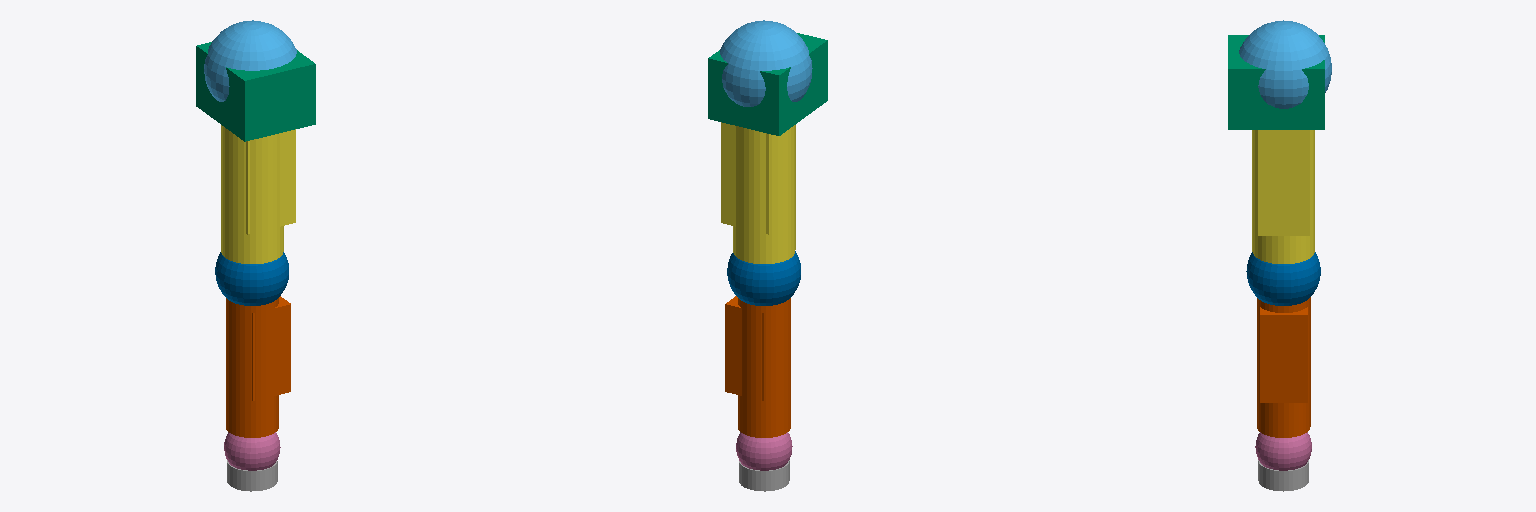
robot.urdf — giorgio_arm_r:
<robot name="giorgio_arm_r">
<link name="base_link"/>
<link name="link1"><inertial><origin xyz="0 0 -0.05"/><mass value="0.8"/><inertia ixx="0.004" iyy="0.004" izz="0.002" ixy="0" ixz="0" iyz="0"/></inertial>
<visual><origin xyz="0 0 0"/><geometry><sphere radius="0.065"/></geometry></visual>
</link>
<joint name="r_shoulder_pitch" type="revolute"><parent link="base_link"/><child link="link1"/><origin xyz="0 0 0"/><axis xyz="0 1 0"/><limit lower="-3.0" upper="1.0" effort="120.0" velocity="3.0"/></joint>
<link name="link2"><inertial><origin xyz="0 0 -0.05"/><mass value="0.9"/><inertia ixx="0.004" iyy="0.004" izz="0.002" ixy="0" ixz="0" iyz="0"/></inertial>
<visual><origin xyz="0 -0.01 -0.02"/><geometry><box size="0.11 0.13 0.09"/></geometry></visual>
</link>
<joint name="r_shoulder_roll" type="revolute"><parent link="link1"/><child link="link2"/><origin xyz="0 0 0"/><axis xyz="1 0 0"/><limit lower="-1.7" upper="0.35" effort="120.0" velocity="3.0"/></joint>
<link name="link3"><inertial><origin xyz="0 0 -0.05"/><mass value="1.6"/><inertia ixx="0.004" iyy="0.004" izz="0.002" ixy="0" ixz="0" iyz="0"/></inertial>
<visual><origin xyz="0 0 -0.15"/><geometry><cylinder radius="0.042" length="0.24"/></geometry></visual>
<visual><origin xyz="0.01 0 -0.13999999999999999"/><geometry><box size="0.075 0.07 0.17"/></geometry></visual>
</link>
<joint name="r_shoulder_yaw" type="revolute"><parent link="link2"/><child link="link3"/><origin xyz="0 0 0"/><axis xyz="0 0 1"/><limit lower="-2.2" upper="2.2" effort="60.0" velocity="3.0"/></joint>
<link name="link4"><inertial><origin xyz="0 0 -0.05"/><mass value="0.4"/><inertia ixx="0.004" iyy="0.004" izz="0.002" ixy="0" ixz="0" iyz="0"/></inertial>
<visual><origin xyz="0 0 0"/><geometry><sphere radius="0.05"/></geometry></visual>
</link>
<joint name="r_elbow" type="revolute"><parent link="link3"/><child link="link4"/><origin xyz="0 0 -0.3"/><axis xyz="0 1 0"/><limit lower="-2.6" upper="0.0" effort="60.0" velocity="3.0"/></joint>
<link name="link5"><inertial><origin xyz="0 0 -0.05"/><mass value="1.1"/><inertia ixx="0.004" iyy="0.004" izz="0.002" ixy="0" ixz="0" iyz="0"/></inertial>
<visual><origin xyz="0 0 -0.13"/><geometry><cylinder radius="0.036" length="0.20"/></geometry></visual>
<visual><origin xyz="0.012 0 -0.11"/><geometry><box size="0.06 0.065 0.13"/></geometry></visual>
</link>
<joint name="r_wrist_yaw" type="revolute"><parent link="link4"/><child link="link5"/><origin xyz="0 0 0"/><axis xyz="0 0 1"/><limit lower="-2.6" upper="2.6" effort="20.0" velocity="3.0"/></joint>
<link name="link6"><inertial><origin xyz="0 0 -0.05"/><mass value="0.3"/><inertia ixx="0.004" iyy="0.004" izz="0.002" ixy="0" ixz="0" iyz="0"/></inertial>
<visual><origin xyz="0 0 0"/><geometry><sphere radius="0.038"/></geometry></visual>
</link>
<joint name="r_wrist_pitch" type="revolute"><parent link="link5"/><child link="link6"/><origin xyz="0 0 -0.26"/><axis xyz="0 1 0"/><limit lower="-1.7" upper="1.7" effort="20.0" velocity="3.0"/></joint>
<link name="link7"><inertial><origin xyz="0 0 -0.05"/><mass value="0.25"/><inertia ixx="0.004" iyy="0.004" izz="0.002" ixy="0" ixz="0" iyz="0"/></inertial>
<visual><origin xyz="0 0 -0.015"/><geometry><cylinder radius="0.034" length="0.03"/></geometry></visual>
</link>
<joint name="r_wrist_roll" type="revolute"><parent link="link6"/><child link="link7"/><origin xyz="0 0 -0.02"/><axis xyz="0 0 1"/><limit lower="-2.9" upper="2.9" effort="15.0" velocity="3.0"/></joint>
<link name="tool0"/>
<joint name="r_tool" type="fixed"><parent link="link7"/><child link="tool0"/><origin xyz="0 0 -0.030000000000000002" rpy="3.14159265 0 0"/></joint>
</robot>

--- Render facts (derived) ---
The picture shows the robot from 3 angles, left to right: view 1: azimuth 30°, elevation 25°; view 2: azimuth 150°, elevation 25°; view 3: azimuth 270°, elevation 25°; orthographic projection.
Robot: giorgio_arm_r — 9 links, 8 joints (7 revolute, 1 fixed); root link base_link; default pose: all joints at 0.
Visible links, largest first — view 1: link3, link5, link2, link1, link4, link6, link7; view 2: link3, link5, link1, link2, link4, link6, link7; view 3: link3, link5, link1, link2, link4, link6, link7.
Boxes of the visible links, x1,y1,x2,y2 form: link3: [221, 125, 295, 263]; link5: [226, 296, 290, 437]; link2: [196, 42, 315, 141]; link1: [204, 20, 296, 101]; link4: [215, 252, 288, 305]; link6: [224, 432, 280, 470]; link7: [227, 460, 277, 491]; link3: [721, 122, 795, 263]; link5: [725, 296, 790, 437]; link1: [720, 20, 812, 106]; link2: [708, 33, 827, 135]; link4: [727, 251, 800, 305]; link6: [736, 432, 792, 470]; link7: [739, 460, 789, 491]; link3: [1252, 130, 1314, 263]; link5: [1257, 297, 1310, 437]; link1: [1239, 20, 1331, 108]; link2: [1228, 35, 1324, 129]; link4: [1246, 252, 1320, 305]; link6: [1255, 432, 1311, 470]; link7: [1258, 460, 1308, 491].
Size in the robot's own frame: 0.13 by 0.14 by 0.675 metres.
Geometry: primitives only (box / cylinder / sphere), no mesh files.
